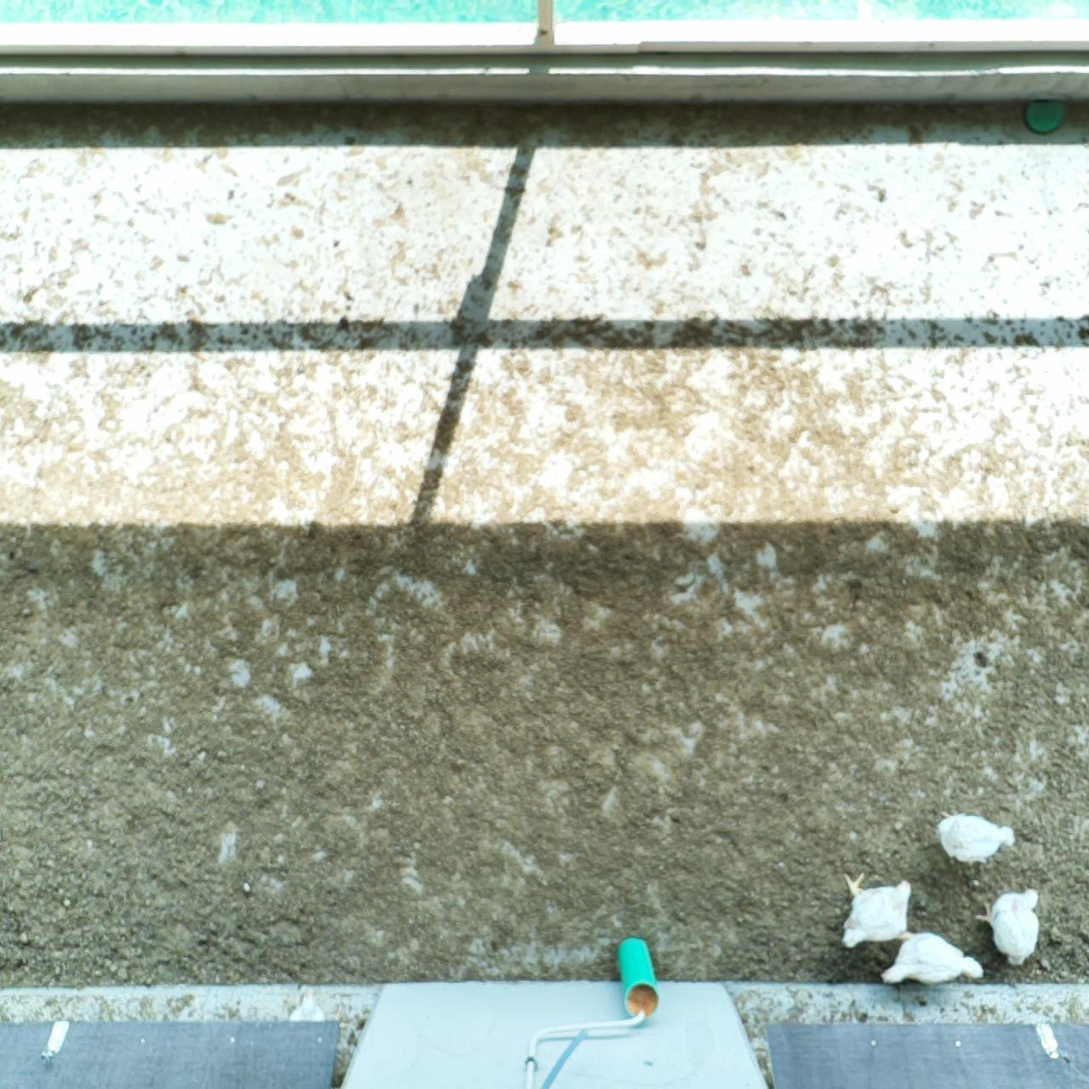chicken: (881, 922, 988, 986), (976, 881, 1046, 972), (839, 868, 915, 949), (932, 806, 1021, 870)
